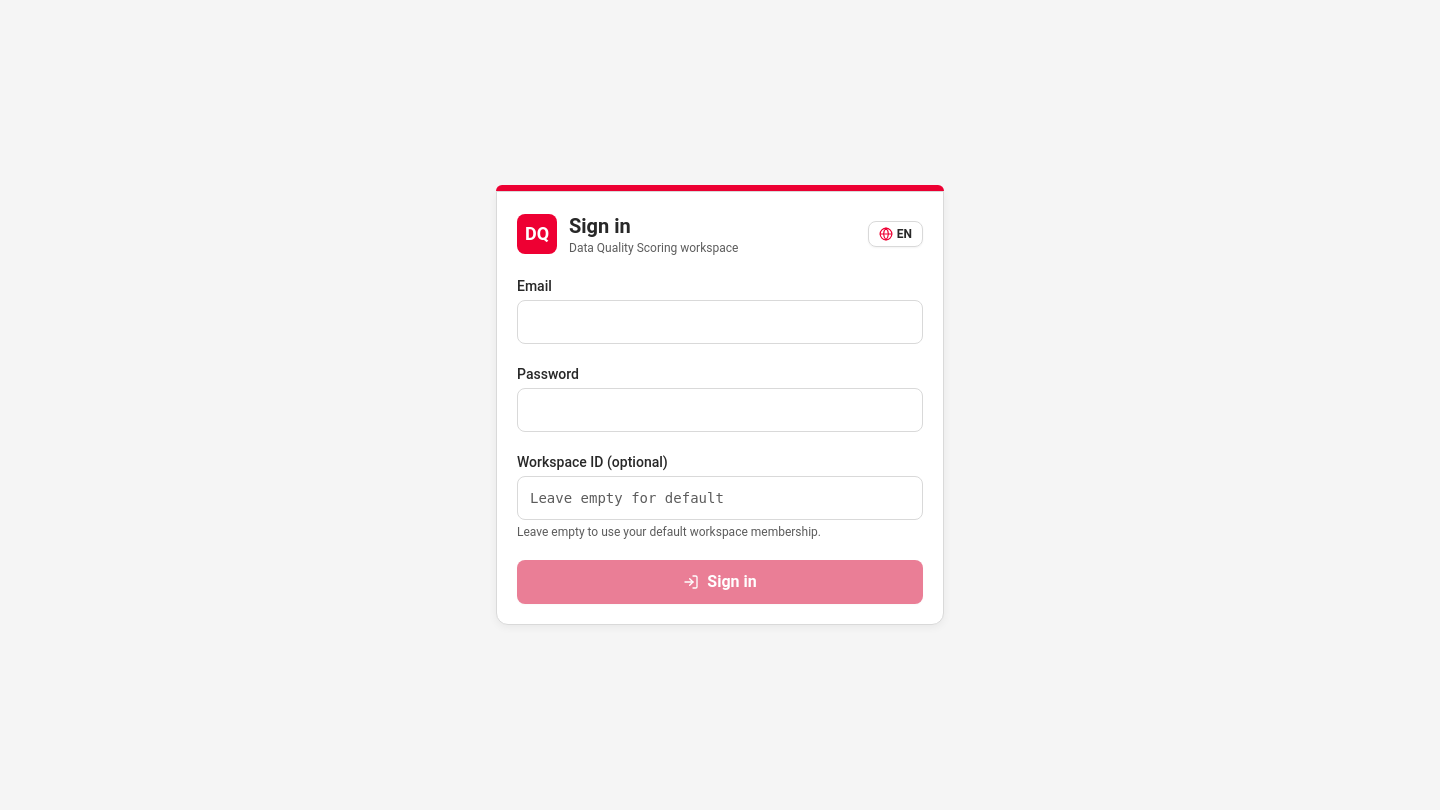
it: login lockout › shows the lockout box with user name, timer and reason on 423
Step 1. Type "alice@example.com" into the field labelled "Email" → (720, 322), box [517,300,923,344]
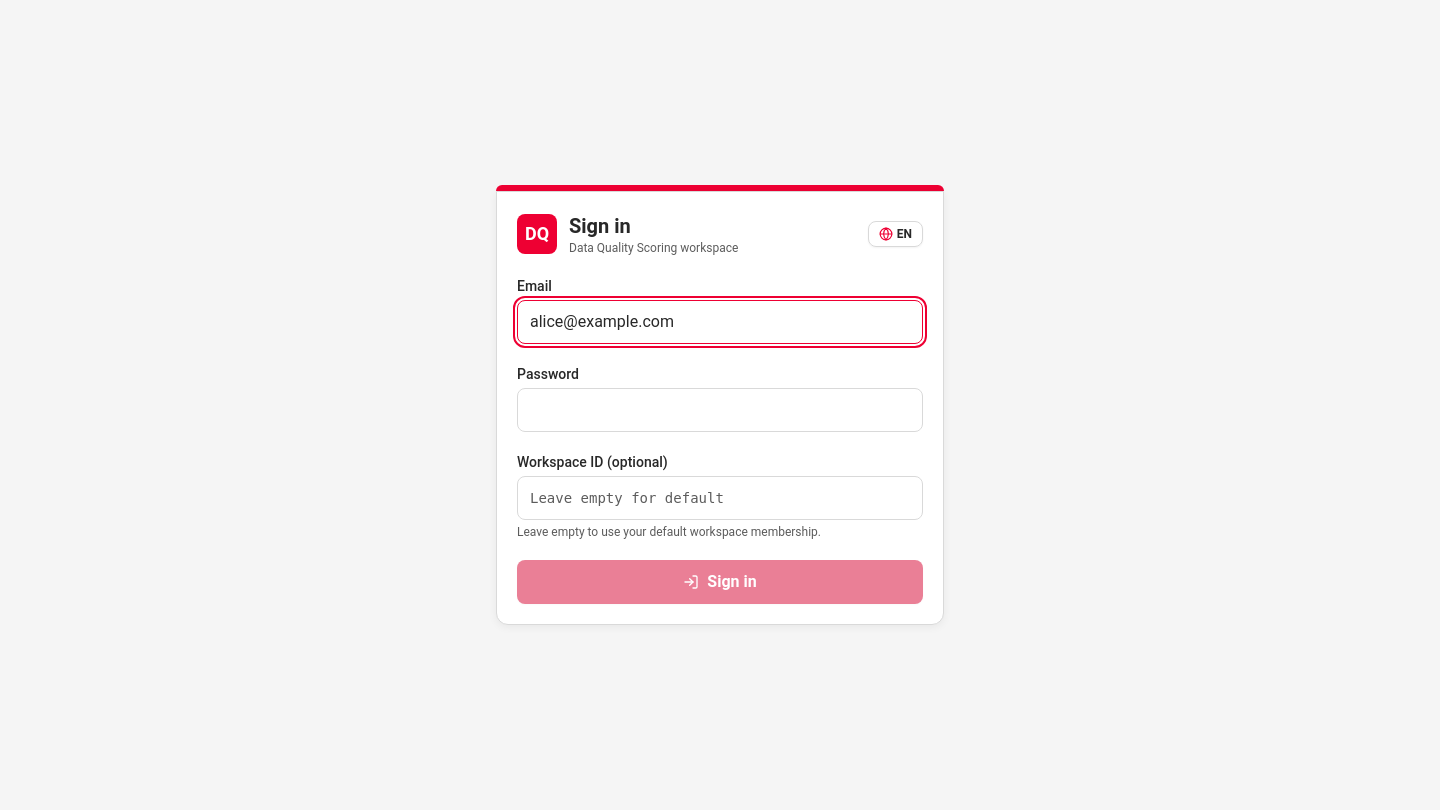
Step 2. Type "wrong" into the password field labelled "Password" → (720, 410), box [517,388,923,432]
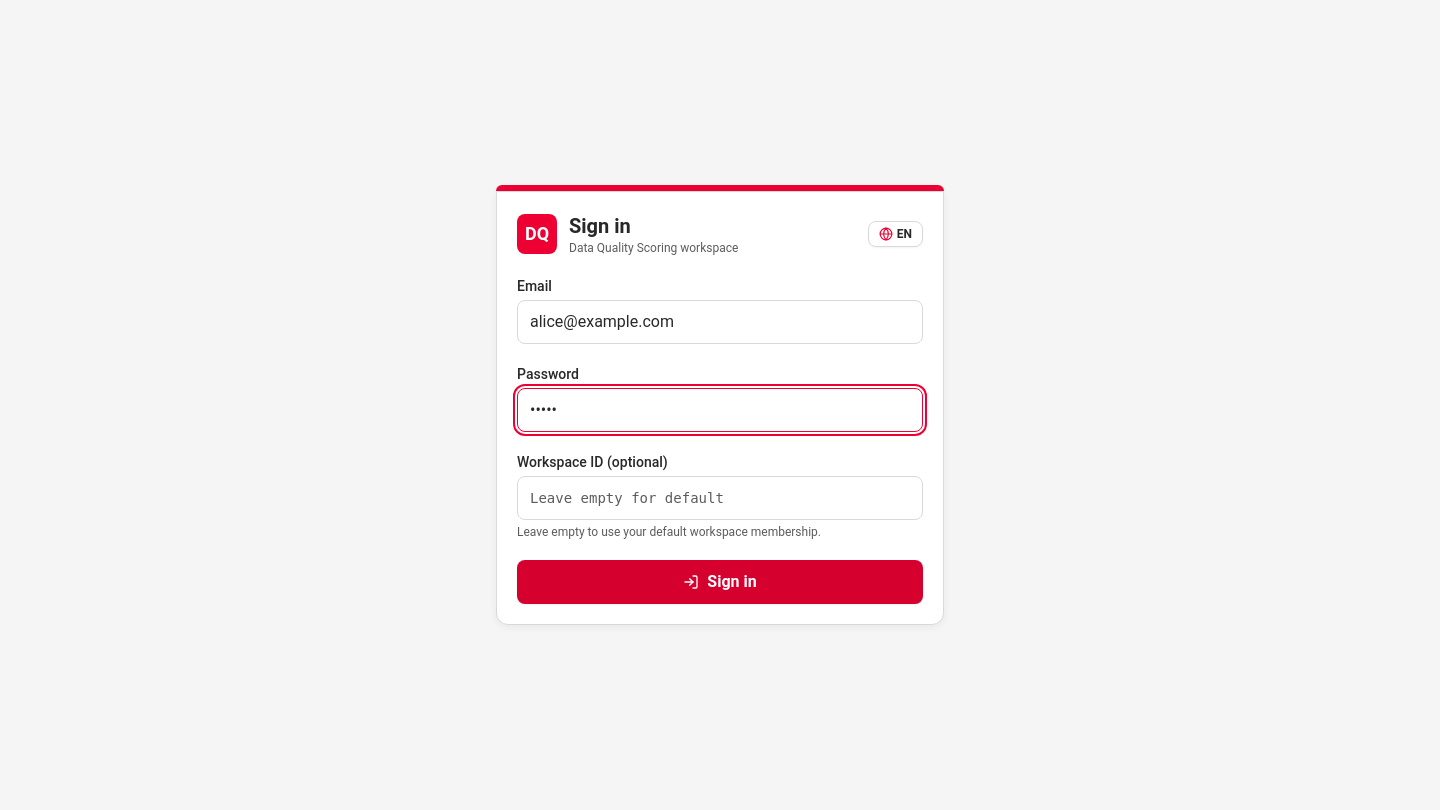
Step 3. Click the button "Sign in" → click(720, 582), box [517,560,923,604]
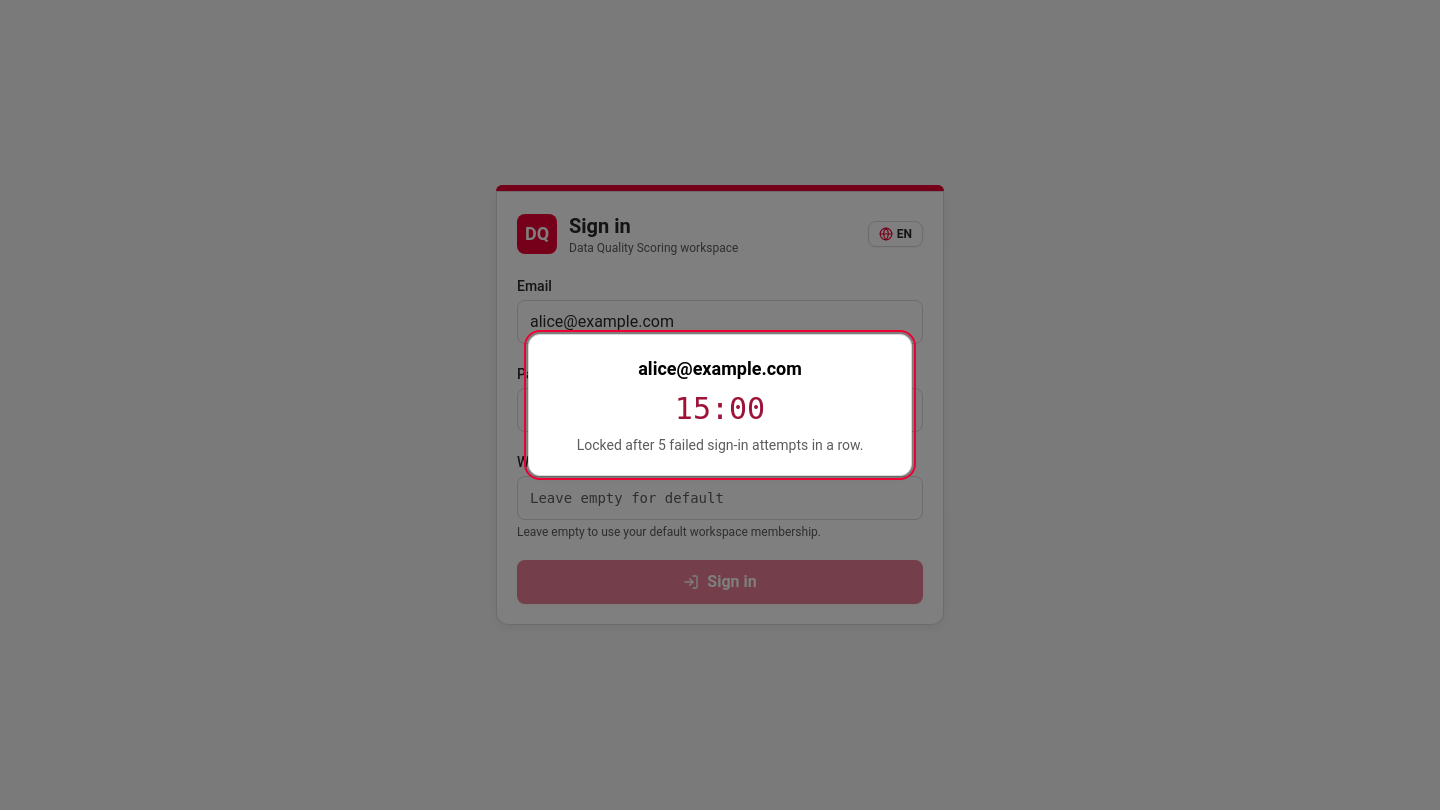
expect the heading "alice@example.com" is shown: met, box [638,358,802,379]
expect the text "15:00" is shown: met, box [675,391,765,426]
expect the text "Locked after 5 failed sign-in attempts in a row." is shown: met, box [577,437,863,453]
